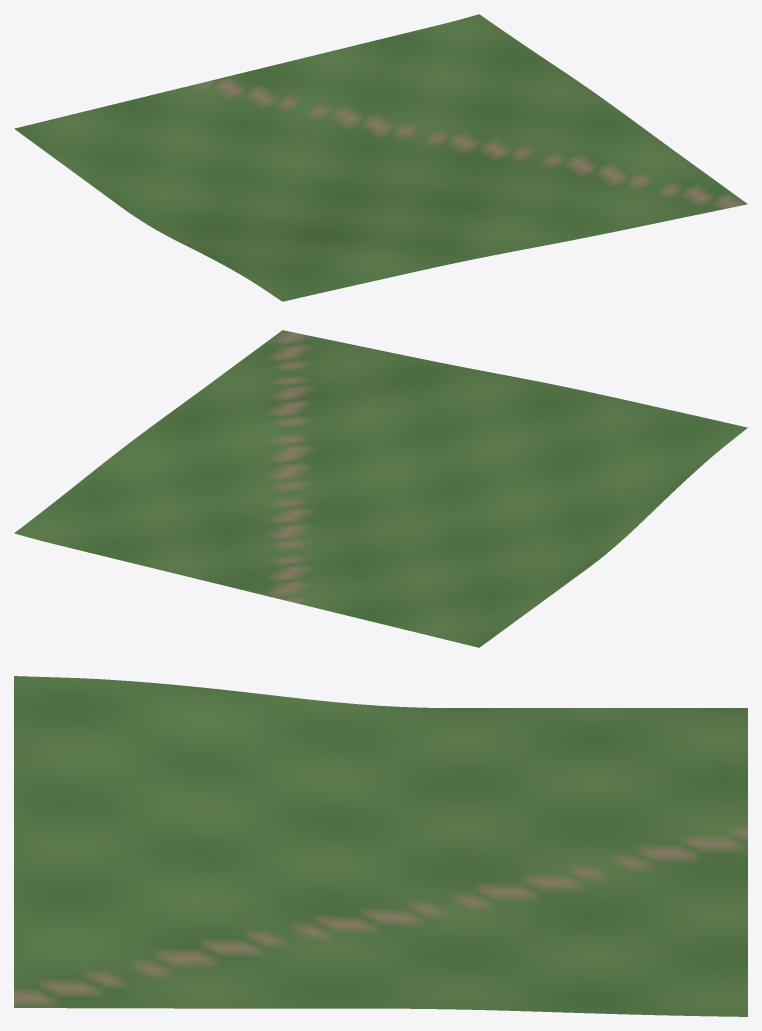
Rendered from chunk_8_6.glb.
3 renders of one model, top to bottom at view 1: azimuth 30°, elevation 25°; view 2: azimuth 150°, elevation 25°; view 3: azimuth 270°, elevation 25°, orthographic. The views are drawn at different scales.
Bounding box in the file's own units: 512 × 24.71 × 512.
